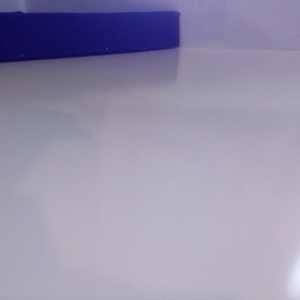zone: (1, 11, 180, 62)
